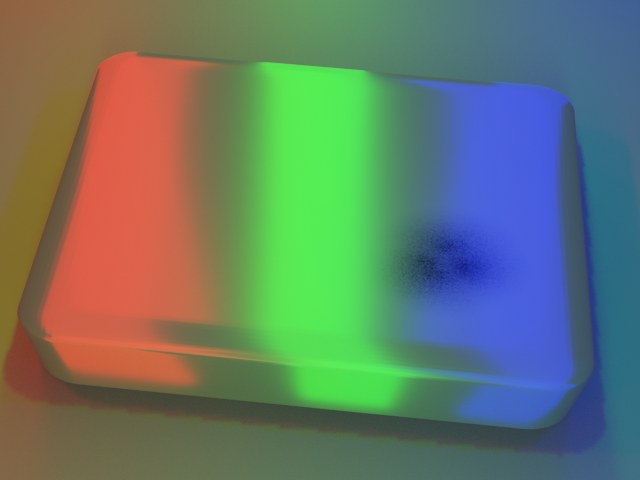stain: (358, 199, 599, 344)
